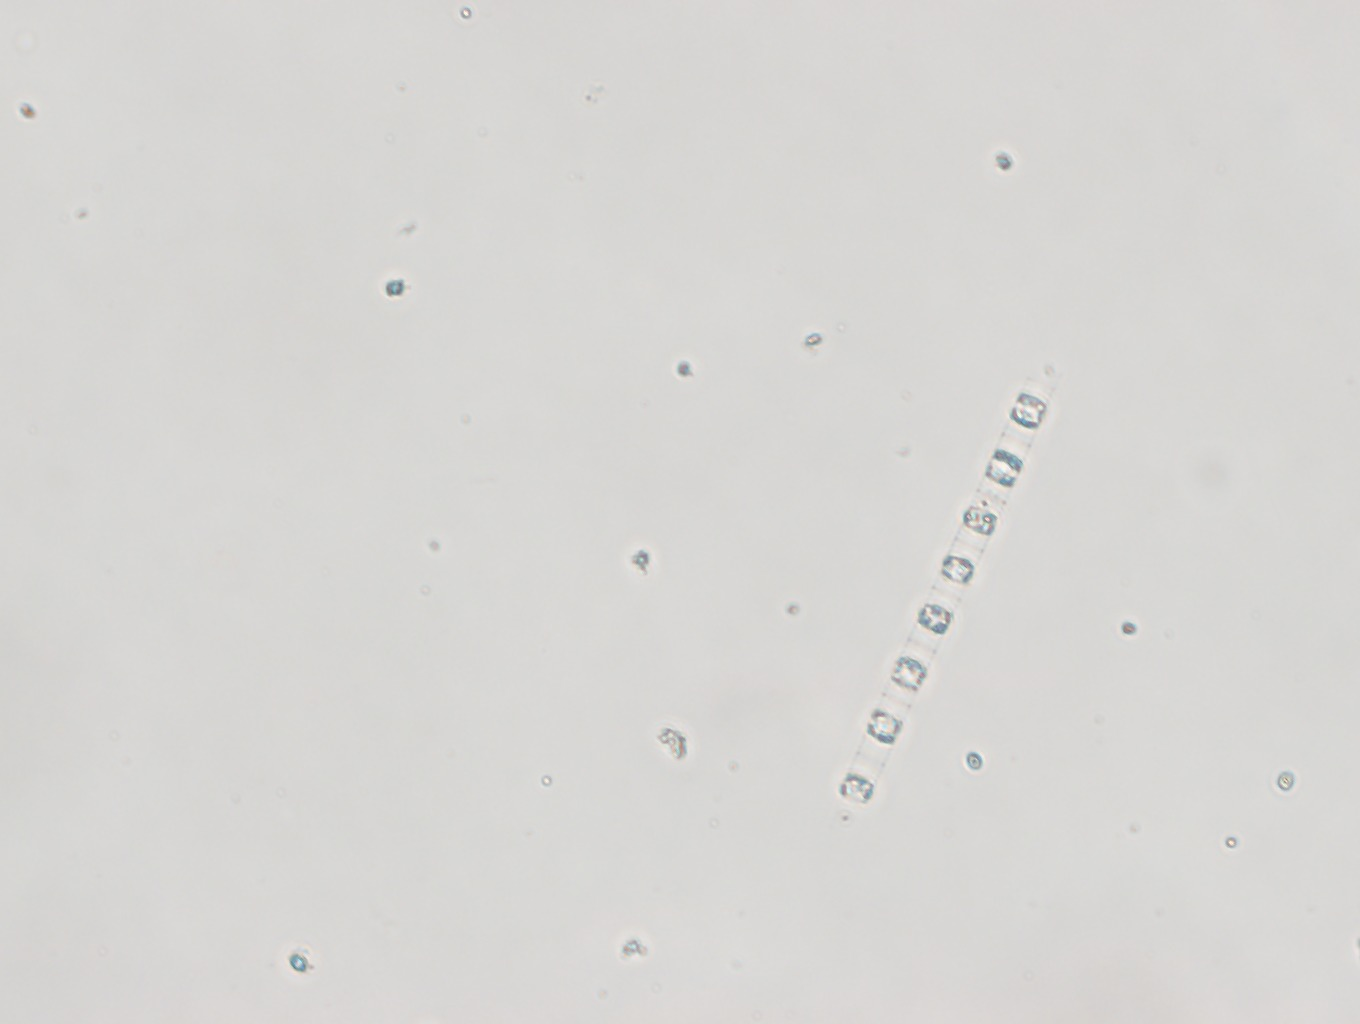skeletonema: (824, 349, 1063, 829)
